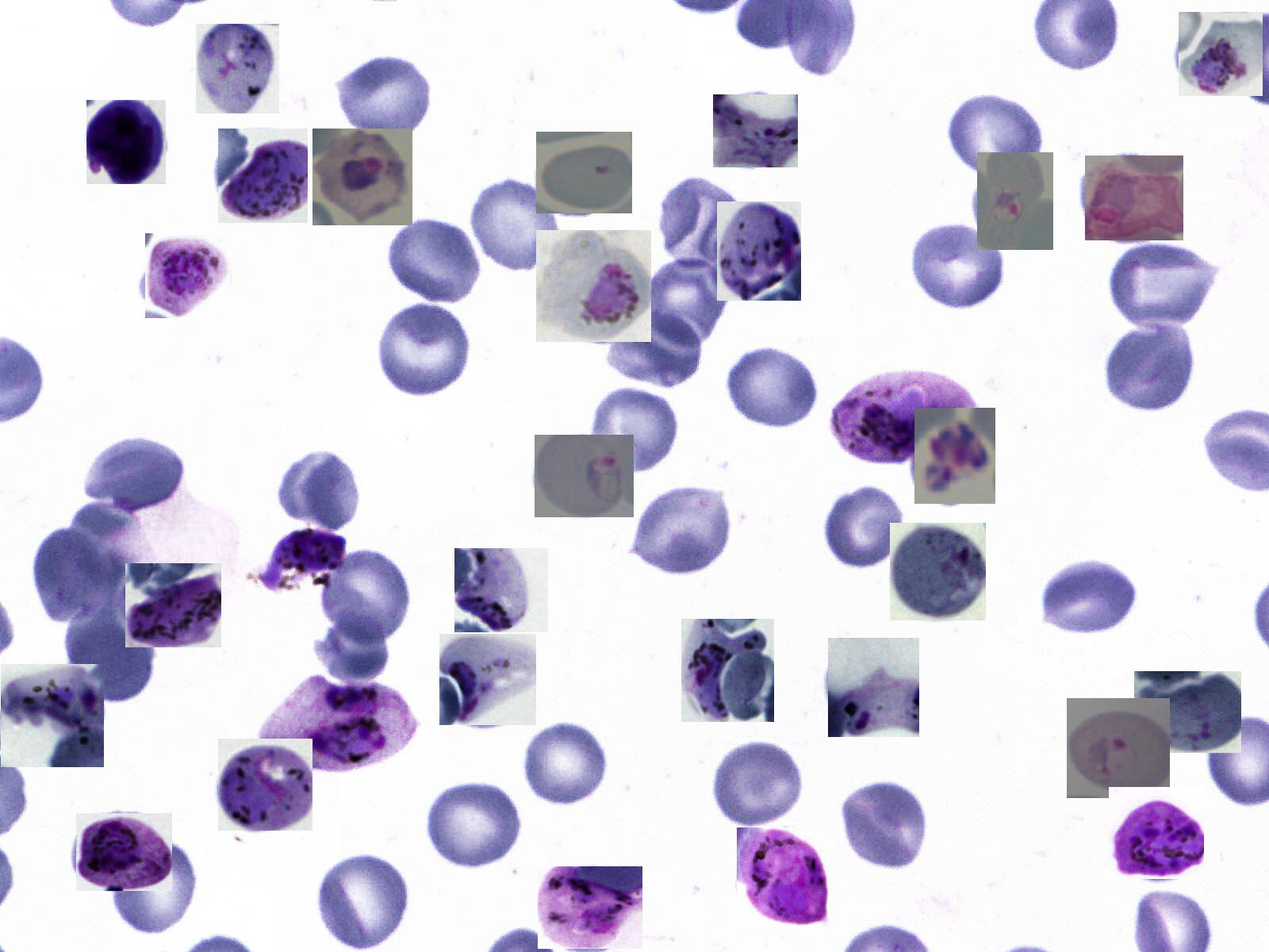Infected: (254, 670, 423, 781), (827, 363, 991, 470), (536, 230, 651, 342), (1, 664, 104, 767), (1067, 698, 1170, 798), (312, 129, 412, 225), (681, 619, 774, 722), (737, 827, 832, 927), (890, 523, 986, 620), (828, 638, 919, 737), (439, 634, 536, 725), (1134, 671, 1241, 753), (1109, 787, 1204, 879), (218, 739, 312, 831), (538, 866, 642, 949), (218, 129, 308, 223), (1085, 155, 1183, 240), (717, 202, 801, 301), (535, 435, 634, 517), (125, 563, 221, 647), (454, 548, 548, 632), (536, 132, 632, 213), (914, 408, 995, 504), (259, 517, 363, 590), (76, 813, 172, 891), (977, 152, 1053, 250), (196, 24, 279, 113), (145, 233, 230, 318), (1179, 12, 1263, 96), (86, 100, 166, 184), (713, 94, 798, 167)
Uninfected: (1095, 314, 1198, 418), (372, 303, 475, 401), (31, 524, 130, 625), (1112, 236, 1221, 326), (338, 44, 436, 140), (602, 301, 707, 390), (318, 854, 416, 949), (382, 217, 482, 308), (631, 484, 732, 574), (66, 602, 154, 705), (913, 223, 1014, 311), (837, 777, 930, 871), (952, 91, 1048, 181), (654, 171, 742, 269), (473, 175, 568, 264), (431, 780, 526, 869), (588, 390, 690, 472), (113, 840, 197, 939), (321, 556, 416, 643), (712, 735, 798, 827), (730, 345, 818, 433), (1041, 560, 1144, 635), (638, 259, 735, 338), (526, 722, 608, 812), (284, 450, 370, 535), (828, 484, 908, 571), (75, 499, 151, 590), (91, 443, 194, 509), (308, 616, 399, 678)
